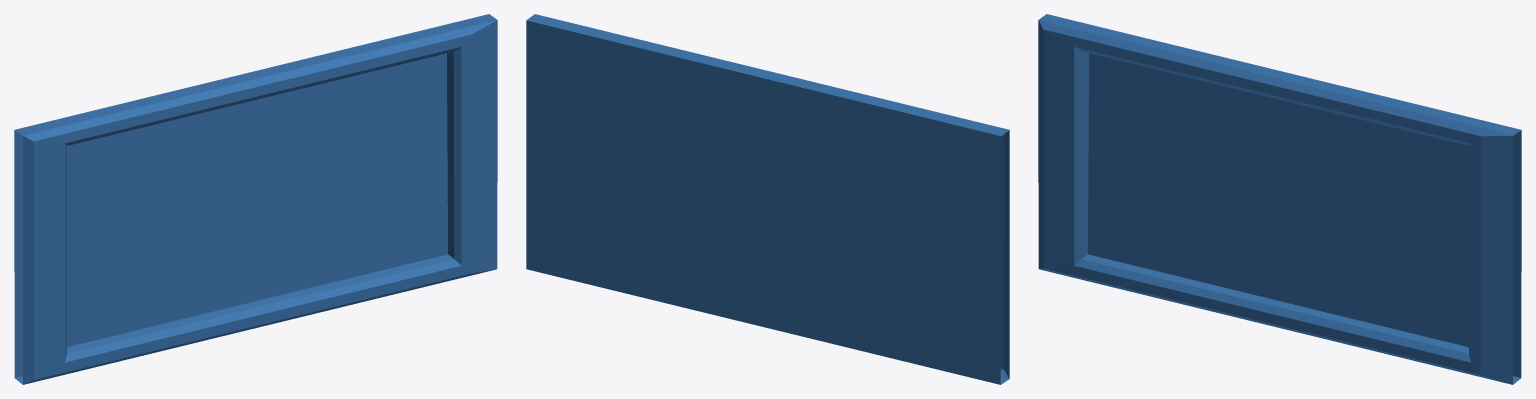
File: Big_box.fbx
3 renders of one model, left to right at view 1: azimuth 30°, elevation 25°; view 2: azimuth 150°, elevation 25°; view 3: azimuth 330°, elevation 25°, orthographic.
Visible parts, largest first — view 1: Big_box; view 2: Big_box; view 3: Big_box.
Part boxes in pixels (<box>): Big_box: <box>14,14,497,384</box>; Big_box: <box>526,14,1009,384</box>; Big_box: <box>1038,14,1521,384</box>.
Size of the model in its own units: 685 by 344 by 29.15.
